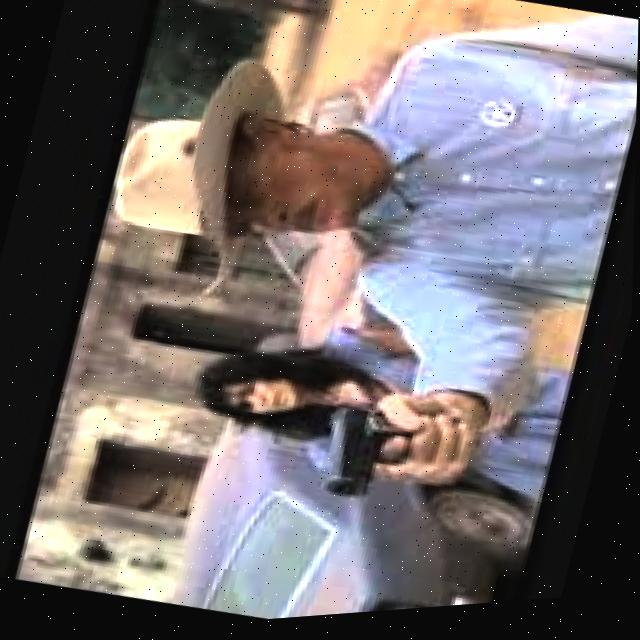pistol: (311, 401, 423, 517)
